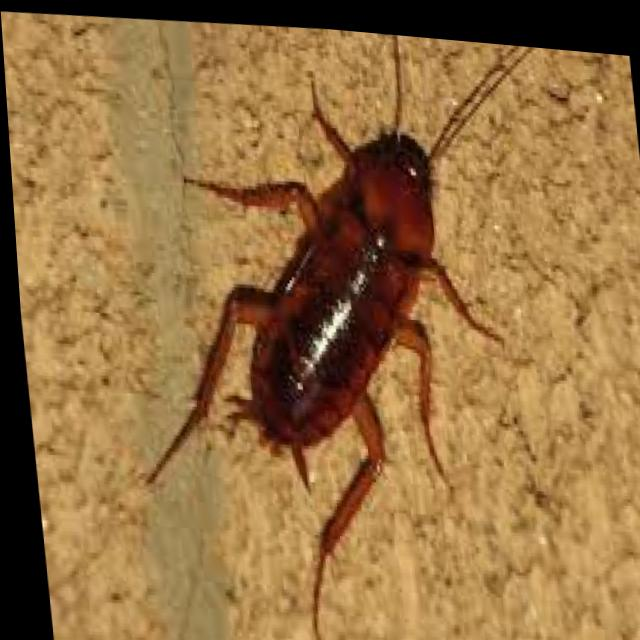Cockroach: (90, 6, 605, 640)
